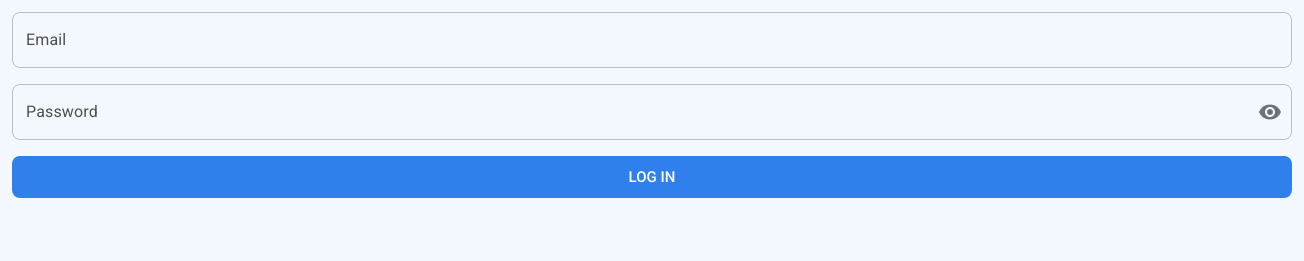
Test case: LoginForm › shows field errors and sends nothing when the form is empty
Click the button "Log in" at point(652, 177), box [12, 156, 1292, 198]
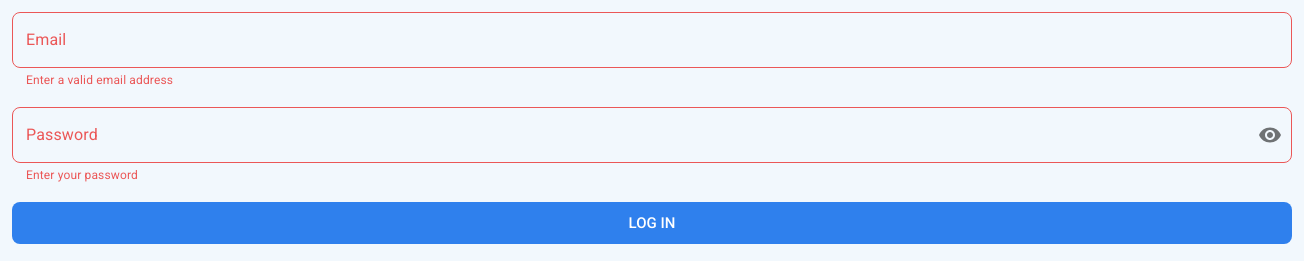
Check: the text "Enter a valid email address" is shown, box [26, 73, 173, 87]
Check: the text "Enter your password" is shown, box [26, 168, 138, 182]
